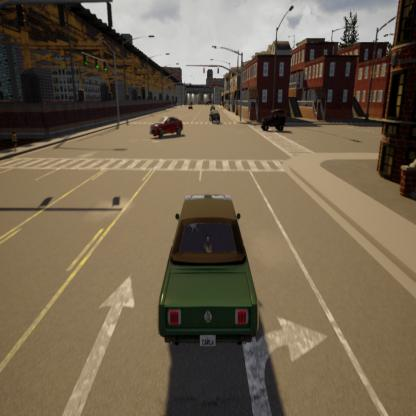Cars: (150, 174, 267, 372), (144, 107, 189, 155), (206, 102, 221, 132), (183, 93, 198, 115)
